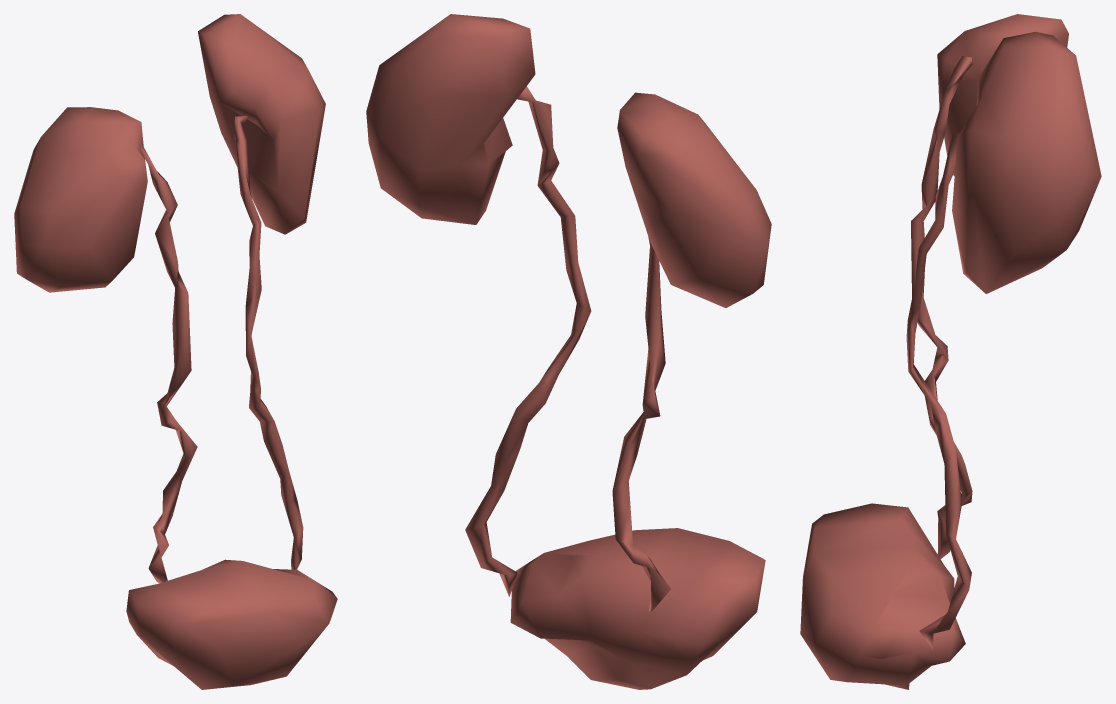
The model's file is icrp_adult_female.urinary.LOD3.glb.
The picture shows the model from 3 angles, left to right: view 1: azimuth 30°, elevation 25°; view 2: azimuth 150°, elevation 25°; view 3: azimuth 270°, elevation 25°; orthographic projection. The views are drawn at different scales.
Parts seen in each view (by area): view 1: ICRP.ADULT.FEMALE.URINARY.KIDNEY_CORTEX.R, ICRP.ADULT.FEMALE.URINARY.URINARY_BLADDER_WALL, ICRP.ADULT.FEMALE.URINARY.KIDNEY_CORTEX.L, ICRP.ADULT.FEMALE.URINARY.URETER.R, ICRP.ADULT.FEMALE.URINARY.URETER.L; view 2: ICRP.ADULT.FEMALE.URINARY.URINARY_BLADDER_WALL, ICRP.ADULT.FEMALE.URINARY.KIDNEY_CORTEX.L, ICRP.ADULT.FEMALE.URINARY.KIDNEY_CORTEX.R, ICRP.ADULT.FEMALE.URINARY.URETER.L, ICRP.ADULT.FEMALE.URINARY.URETER.R; view 3: ICRP.ADULT.FEMALE.URINARY.KIDNEY_CORTEX.L, ICRP.ADULT.FEMALE.URINARY.URINARY_BLADDER_WALL, ICRP.ADULT.FEMALE.URINARY.URETER.L, ICRP.ADULT.FEMALE.URINARY.KIDNEY_CORTEX.R, ICRP.ADULT.FEMALE.URINARY.URETER.R.
Boxes of the visible parts, x1,y1,x2,y2 form: ICRP.ADULT.FEMALE.URINARY.KIDNEY_CORTEX.R: (14, 107, 147, 292); ICRP.ADULT.FEMALE.URINARY.URINARY_BLADDER_WALL: (126, 559, 337, 689); ICRP.ADULT.FEMALE.URINARY.KIDNEY_CORTEX.L: (198, 14, 325, 234); ICRP.ADULT.FEMALE.URINARY.URETER.R: (140, 144, 197, 583); ICRP.ADULT.FEMALE.URINARY.URETER.L: (234, 116, 303, 569); ICRP.ADULT.FEMALE.URINARY.URINARY_BLADDER_WALL: (510, 528, 765, 689); ICRP.ADULT.FEMALE.URINARY.KIDNEY_CORTEX.L: (366, 14, 535, 224); ICRP.ADULT.FEMALE.URINARY.KIDNEY_CORTEX.R: (617, 92, 771, 307); ICRP.ADULT.FEMALE.URINARY.URETER.L: (465, 86, 591, 596); ICRP.ADULT.FEMALE.URINARY.URETER.R: (612, 237, 670, 611); ICRP.ADULT.FEMALE.URINARY.KIDNEY_CORTEX.L: (952, 31, 1101, 293); ICRP.ADULT.FEMALE.URINARY.URINARY_BLADDER_WALL: (800, 503, 965, 689); ICRP.ADULT.FEMALE.URINARY.URETER.L: (906, 131, 971, 649); ICRP.ADULT.FEMALE.URINARY.KIDNEY_CORTEX.R: (937, 14, 1068, 175); ICRP.ADULT.FEMALE.URINARY.URETER.R: (911, 56, 972, 561).
Size of the model in its own units: 0.1784 by 0.3268 by 0.1319.
